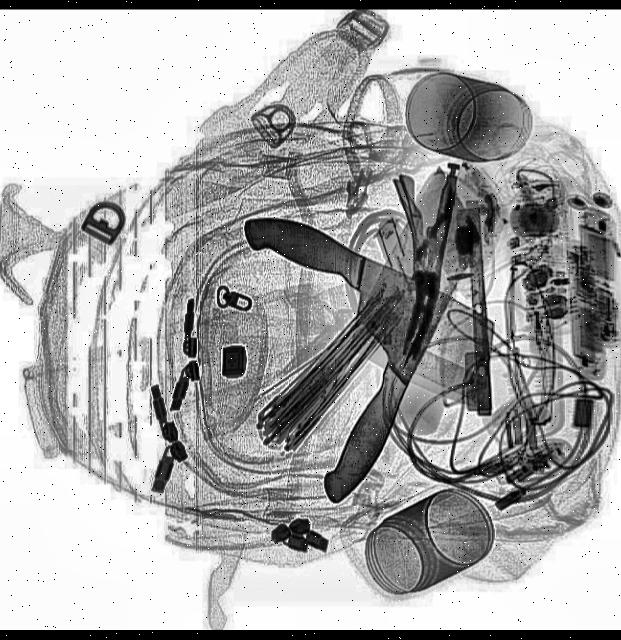Knife: (278, 166, 510, 510), (219, 198, 511, 413)
